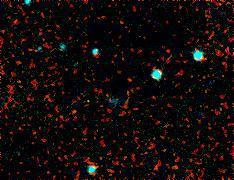star: (73, 90, 103, 120)
